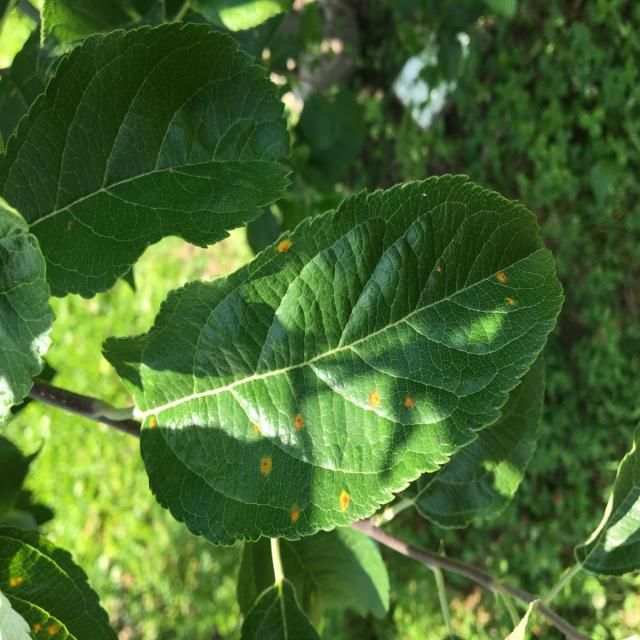Rust: (265, 227, 300, 264), (337, 475, 357, 525), (488, 265, 519, 293), (291, 400, 312, 440), (283, 505, 314, 532), (400, 386, 419, 430), (362, 378, 384, 412), (255, 447, 278, 479), (145, 405, 166, 440)
